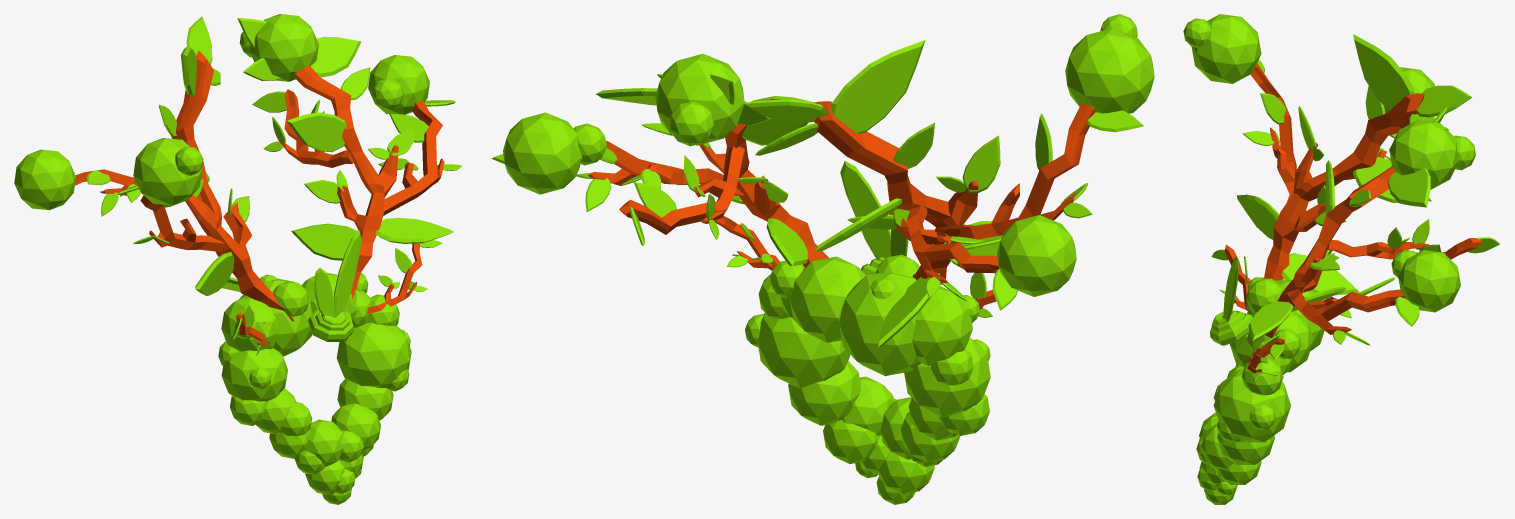
The model's file is Character3Ramas.fbx.
3 views of the same model, side by side, from view 1: azimuth 30°, elevation 25°; view 2: azimuth 150°, elevation 25°; view 3: azimuth 270°, elevation 25° (orthographic). The views are drawn at different scales.
Visible parts, largest first — view 1: Barba; view 2: Barba; view 3: Barba.
Part boxes in pixels (x1=…): Barba: x1=14, y1=14, x2=462, y2=504; Barba: x1=491, y1=14, x2=1154, y2=504; Barba: x1=1183, y1=14, x2=1499, y2=504.
Size of the model in its own units: 1159 by 1065 by 717.
